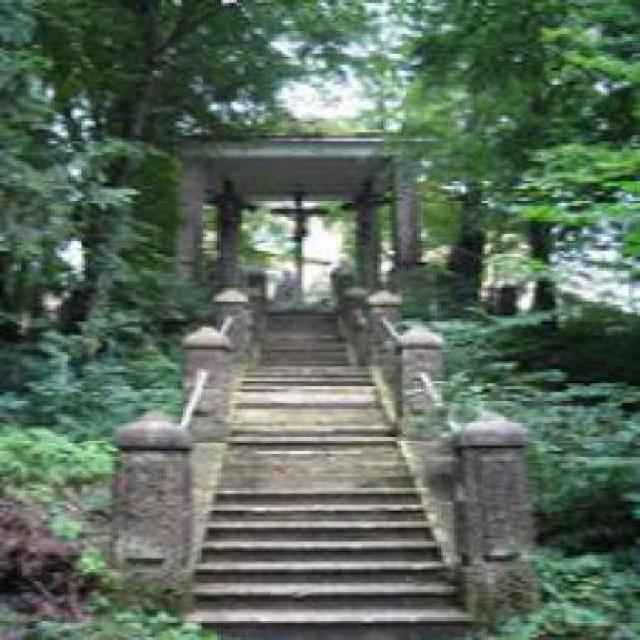stair: (209, 389, 446, 617)
